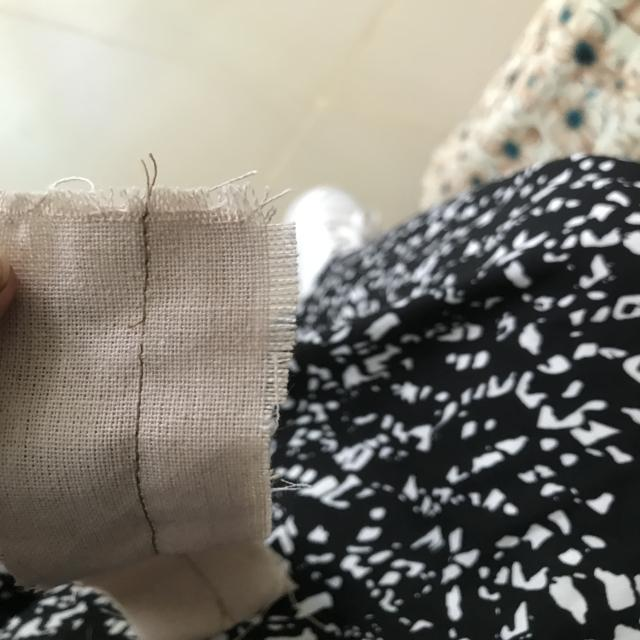broken: (126, 313, 157, 355)
